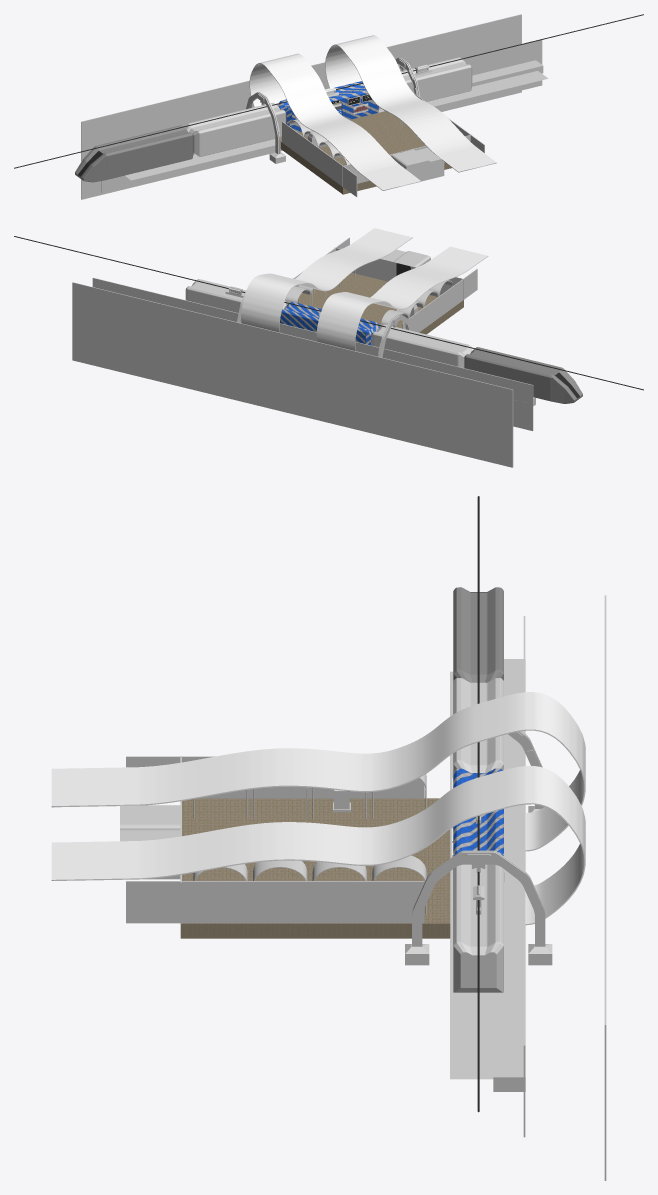
The model's file is TrainStationBlockOut3.fbx.
3 views of the same model, one above another, from view 1: azimuth 30°, elevation 25°; view 2: azimuth 150°, elevation 25°; view 3: azimuth 270°, elevation 25° (orthographic). The views are drawn at different scales.
Parts seen in each view (by area): view 1: Cube.069, Cube.005, Cube.003, Cube.046, Cube.047, Cube.053, Cube, Plane, Cube.052, Cube.055, Cube.034, Cube.059 (+5 smaller); view 2: Cube.069, Cube.003, Cube.005, Cube.047, Cube.046, Cube.053, Cube, Cube.055, Cube.034, Cube.052, Cube.004, Cylinder.003 (+3 smaller); view 3: Cube.005, Cube.003, Cube, Cube.054, Cube.001, Cube.052, Plane, Cube.046, Cube.055, Cube.053, Plane.003, Cube.059 (+5 smaller).
Part boxes in pixels (x1,y1,x2,y2): Cube.069: [81, 14, 521, 199]; Cube.005: [325, 35, 496, 172]; Cube.003: [249, 53, 421, 190]; Cube.046: [75, 125, 193, 182]; Cube.047: [101, 40, 542, 192]; Cube.053: [185, 102, 286, 156]; Cube: [280, 111, 451, 194]; Plane: [125, 71, 547, 180]; Cube.052: [382, 57, 472, 110]; Cube.055: [282, 121, 357, 196]; Cube.034: [278, 81, 378, 132]; Cube.059: [391, 147, 444, 181]; Cube.069: [72, 282, 513, 467]; Cube.003: [316, 246, 488, 351]; Cube.005: [241, 228, 412, 332]; Cube.047: [92, 277, 533, 430]; Cube.046: [464, 347, 582, 403]; Cube.053: [371, 324, 472, 367]; Cube: [286, 273, 463, 334]; Cube.055: [402, 269, 477, 332]; Cube.034: [279, 301, 379, 345]; Cube.052: [185, 279, 286, 312]; Cube.004: [335, 247, 464, 299]; Cylinder.003: [14, 236, 643, 390]; Cube.005: [51, 766, 585, 925]; Cube.003: [51, 692, 585, 851]; Cube: [180, 798, 450, 938]; Cube.054: [126, 881, 424, 923]; Cube.001: [493, 659, 525, 1091]; Cube.052: [453, 864, 503, 992]; Plane: [450, 671, 493, 1079]; Cube.046: [453, 587, 503, 682]; Cube.055: [126, 756, 424, 798]; Cube.053: [453, 678, 503, 772]; Plane.003: [412, 851, 545, 946]; Cube.059: [120, 805, 180, 879].
Bounding box in the file's own units: 8484 × 1405 × 3236.
